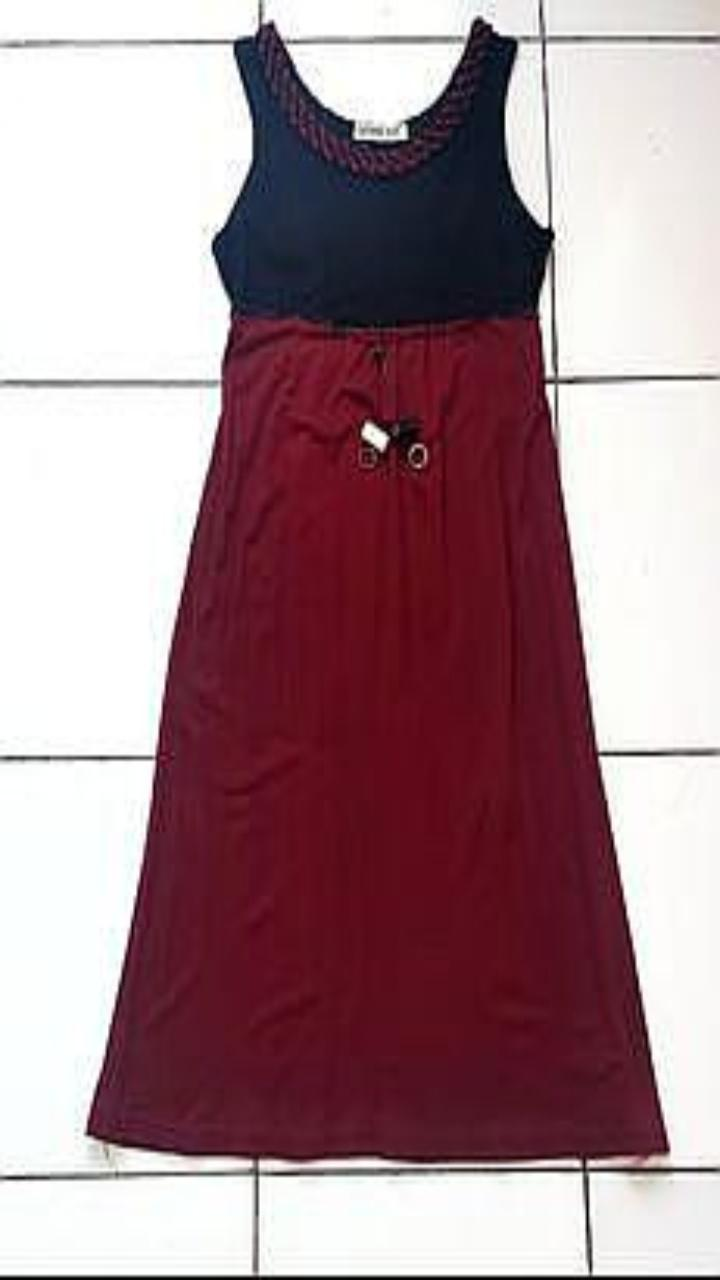Dresses: (87, 17, 668, 1159)
